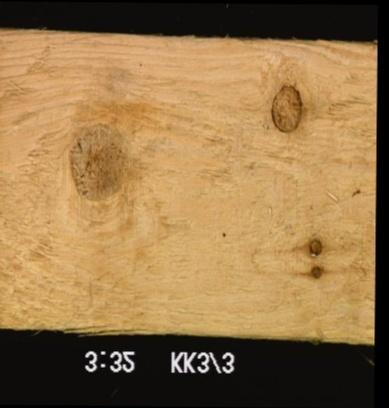dry_knot: (268, 83, 302, 133)
sound_knot: (65, 122, 132, 204)
split: (60, 319, 181, 334)
